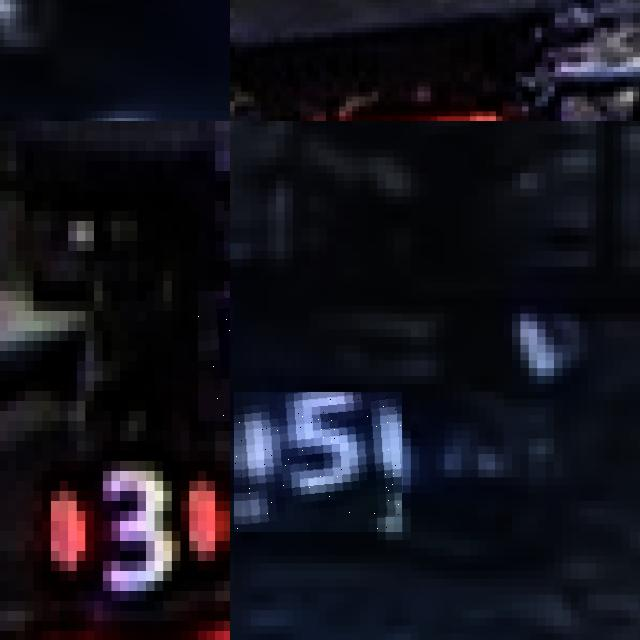B5: (234, 392, 402, 532)
R3: (42, 431, 230, 601), (197, 291, 230, 421)
